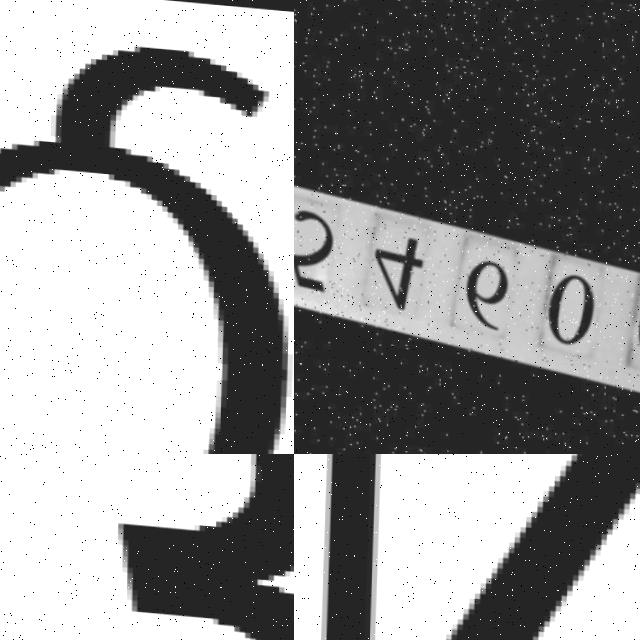0: (534, 253, 603, 354), (624, 273, 640, 367)
3: (0, 454, 294, 640)
4: (358, 216, 431, 321)
5: (294, 198, 341, 299)
6: (449, 242, 514, 337)
Q: (0, 13, 294, 454)
